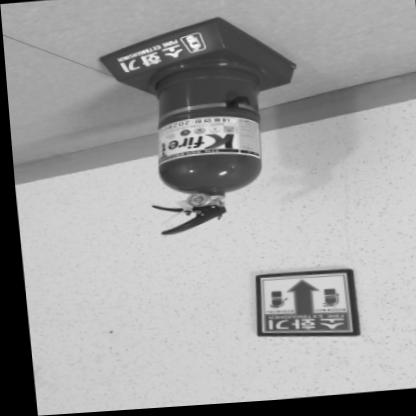FE: (98, 17, 303, 239)
